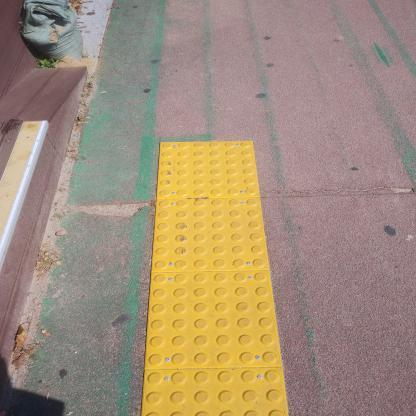podotacti: (132, 132, 298, 415)
